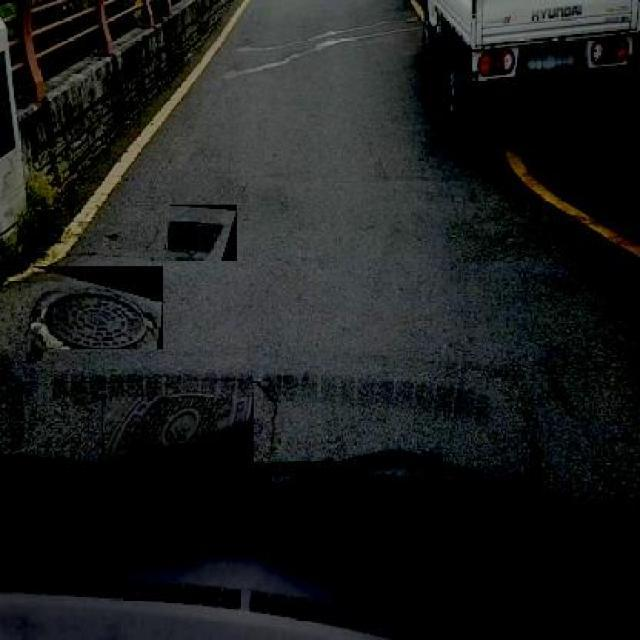Manhole: (101, 397, 254, 511), (30, 266, 164, 349)
Open Manhole: (168, 204, 237, 260)
Pothole: (71, 246, 99, 260), (234, 34, 257, 50), (220, 64, 240, 80), (102, 229, 124, 241)
